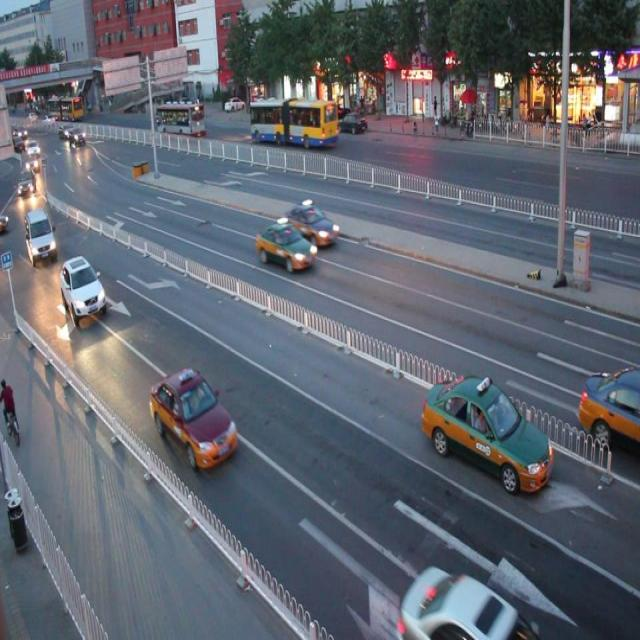car: (421, 372, 555, 492), (396, 560, 531, 640), (149, 366, 236, 468), (579, 365, 640, 448), (255, 219, 314, 275), (61, 254, 106, 324), (284, 201, 338, 247)
van: (249, 98, 339, 149)
